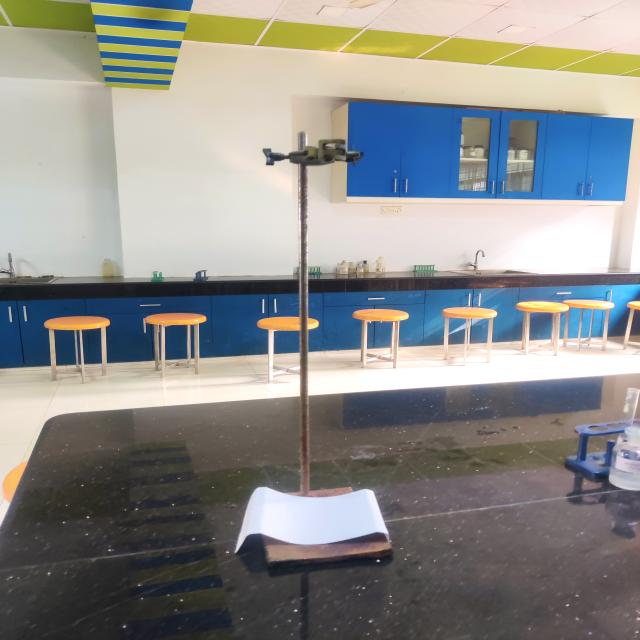Burette_Stands: (240, 114, 400, 573)
